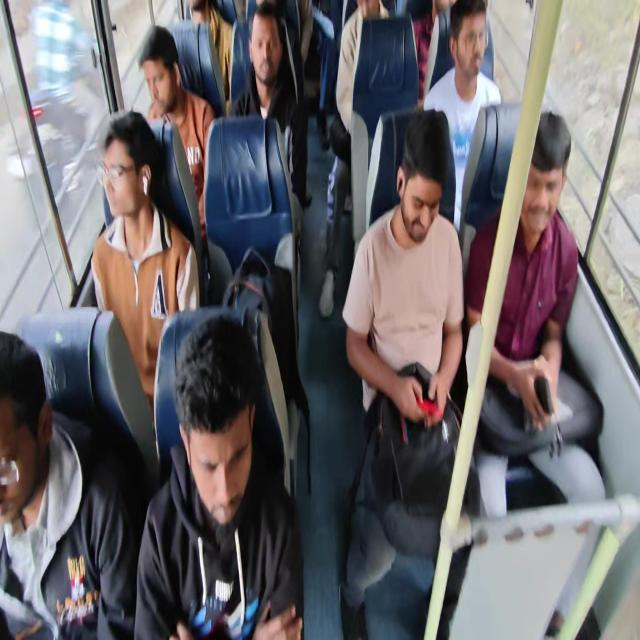person: (464, 108, 606, 634), (339, 107, 479, 638), (133, 310, 304, 638), (0, 329, 138, 639), (90, 110, 200, 423), (318, 0, 394, 318), (230, 2, 310, 245), (422, 0, 501, 232), (138, 24, 216, 238), (187, 0, 233, 108), (407, 0, 455, 101)
